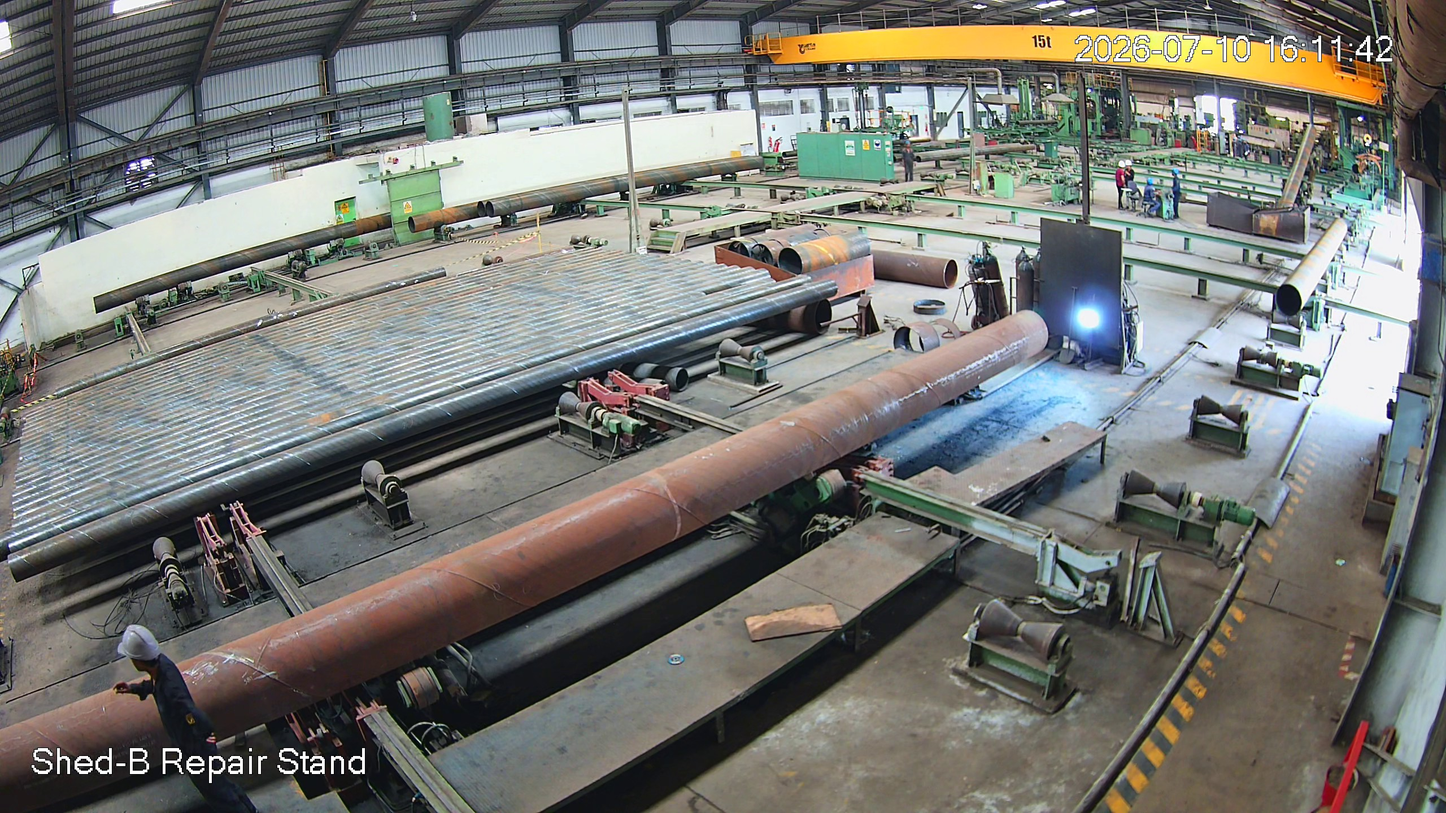Helmet: (108, 619, 171, 689)
Person: (109, 620, 256, 813)
